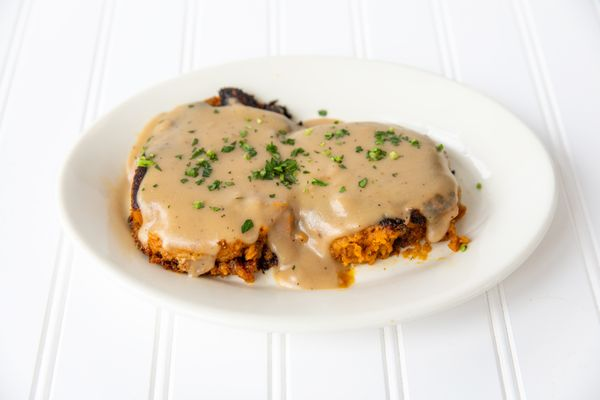curry: (250, 153, 300, 185)
